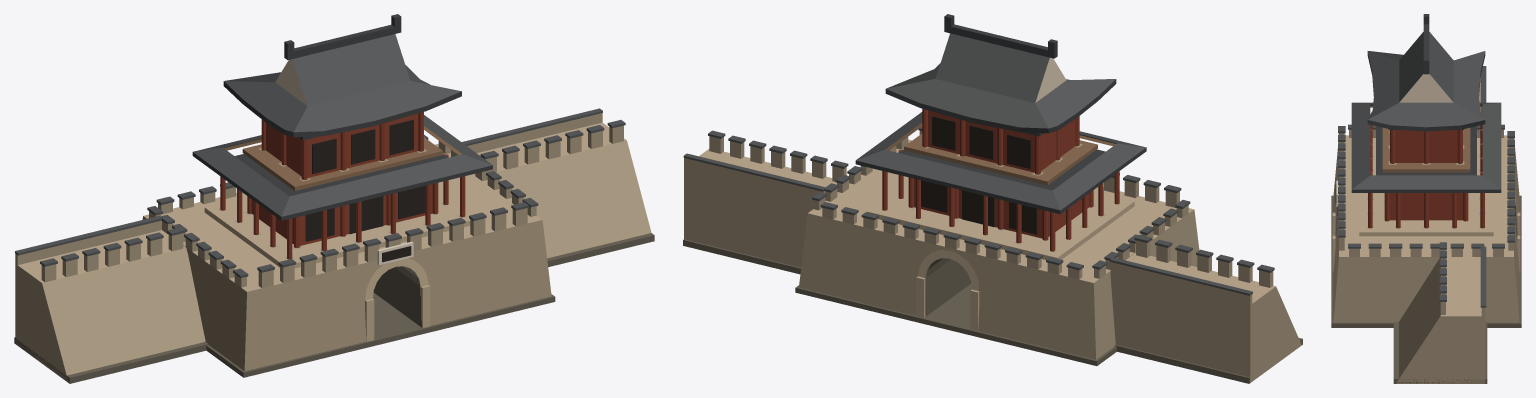
The model's file is X02_far.glb.
3 renders of one model, left to right at view 1: azimuth 30°, elevation 25°; view 2: azimuth 150°, elevation 25°; view 3: azimuth 270°, elevation 25°, orthographic. The views are drawn at different scales.
Visible parts, largest first — view 1: X02_far; view 2: X02_far; view 3: X02_far.
Boxes of the visible parts, x1,y1,x2,y2 form: X02_far: (14, 14, 654, 383); X02_far: (683, 14, 1302, 383); X02_far: (1331, 14, 1521, 383).
Bounding box in the file's own units: 60.8 × 26.75 × 20.4.
